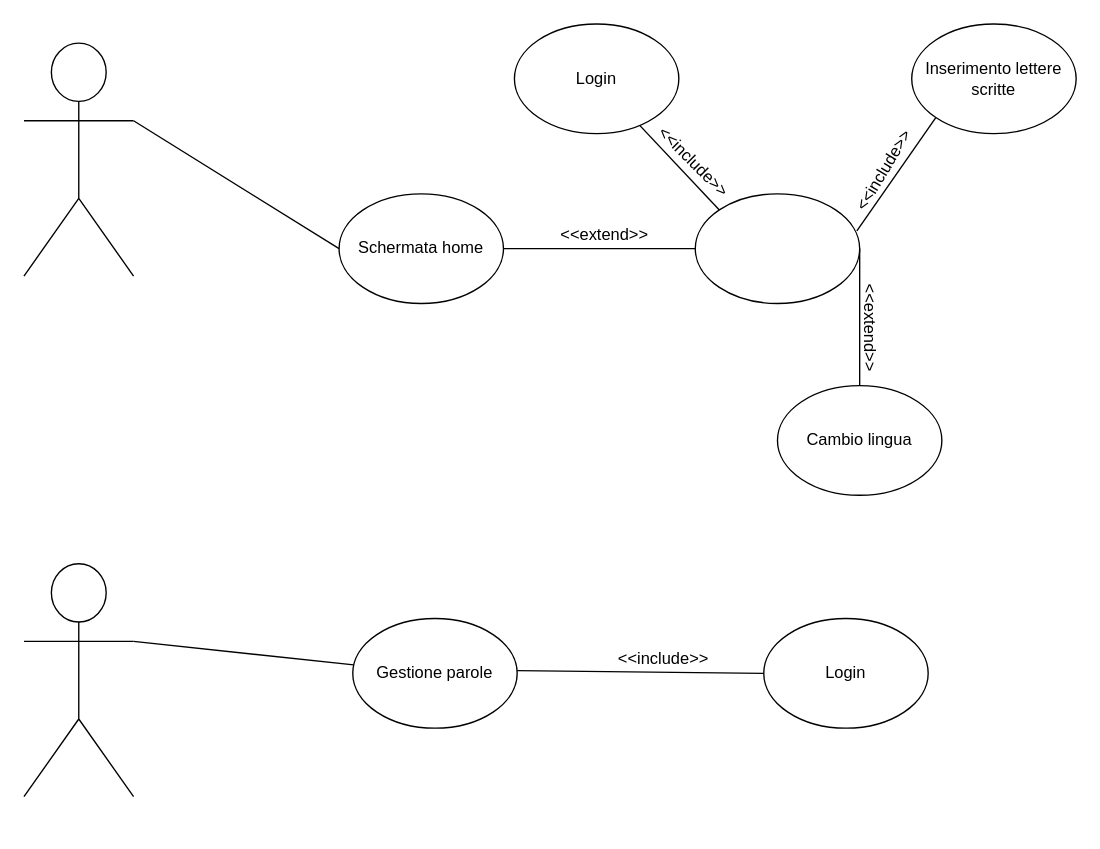
The diagram is 1100 pixels wide and 849 high, and some of its shapes have lost their labels. Each missing label, with the box of its shape:
Administrator: (23, 562, 134, 797)
Avvio gioco: (694, 192, 860, 303)
Client: (23, 42, 134, 276)
